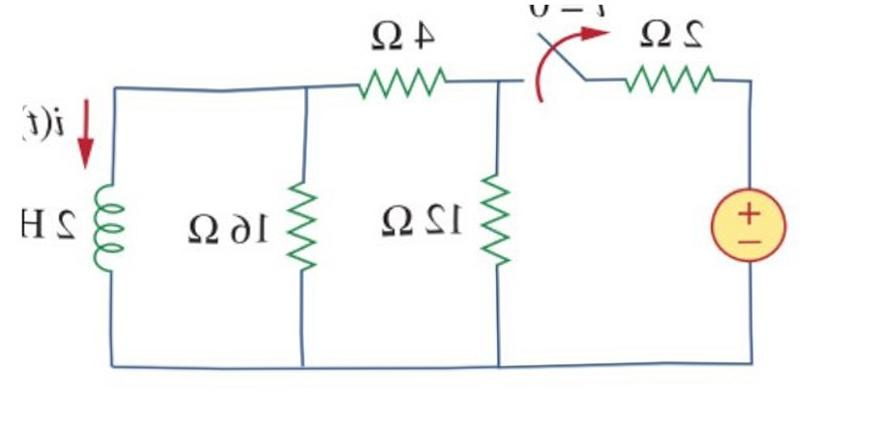Battery: (688, 169, 808, 280)
